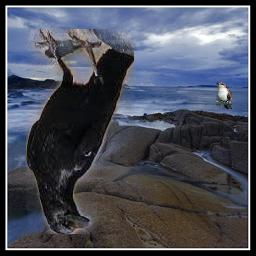Crow: (26, 30, 134, 235)
Cuckoo: (216, 83, 232, 110)
